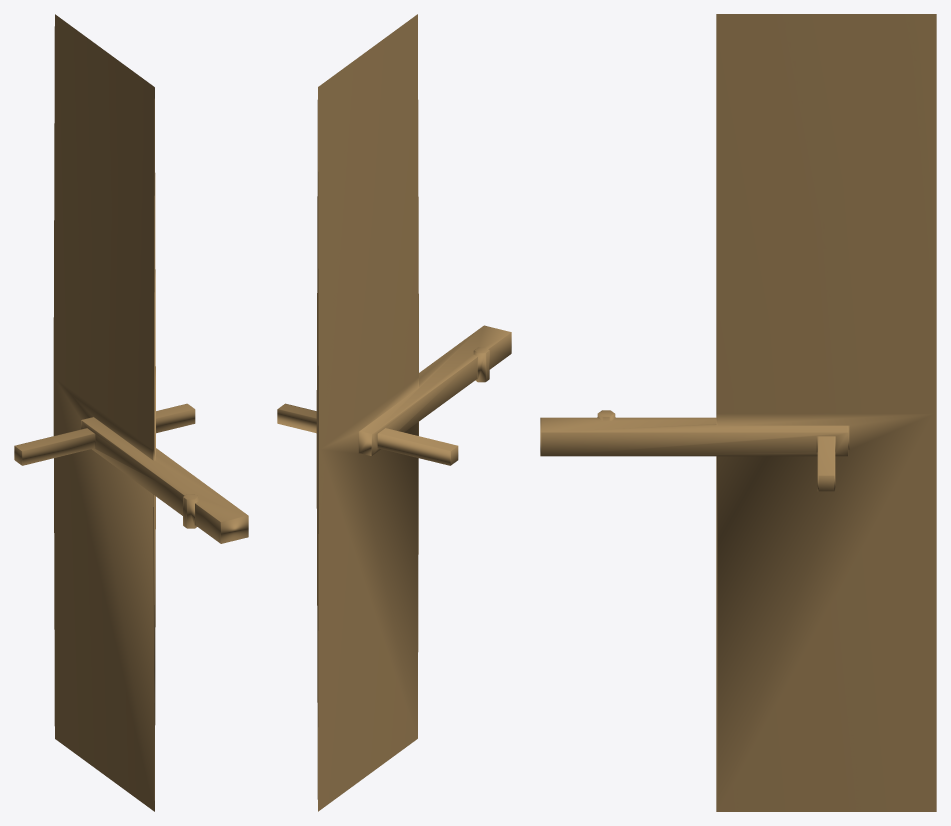
File: weapons_crossbow.glb
3 renders of one model, left to right at view 1: azimuth 30°, elevation 25°; view 2: azimuth 150°, elevation 25°; view 3: azimuth 270°, elevation 25°, orthographic. The views are drawn at different scales.
Visible parts, largest first — view 1: weapons_crossbow; view 2: weapons_crossbow; view 3: weapons_crossbow.
Boxes of the visible parts, bbox=[...] form: weapons_crossbow: bbox=[14, 14, 248, 811]; weapons_crossbow: bbox=[277, 14, 511, 811]; weapons_crossbow: bbox=[540, 14, 936, 811].
Bounding box in the file's own units: 0.25 × 0.9997 × 0.45.
